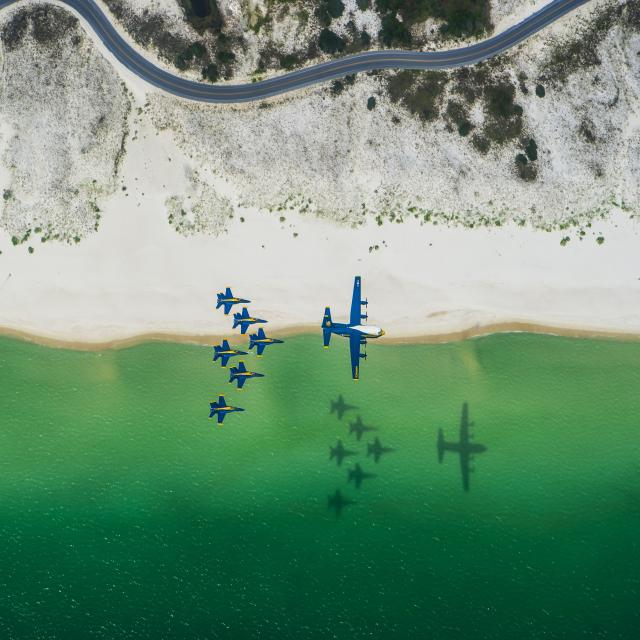MIL_Plane: (321, 292, 385, 364), (208, 394, 246, 425), (228, 360, 265, 391), (212, 338, 249, 369), (248, 326, 285, 357), (232, 306, 268, 336), (216, 286, 252, 316)
